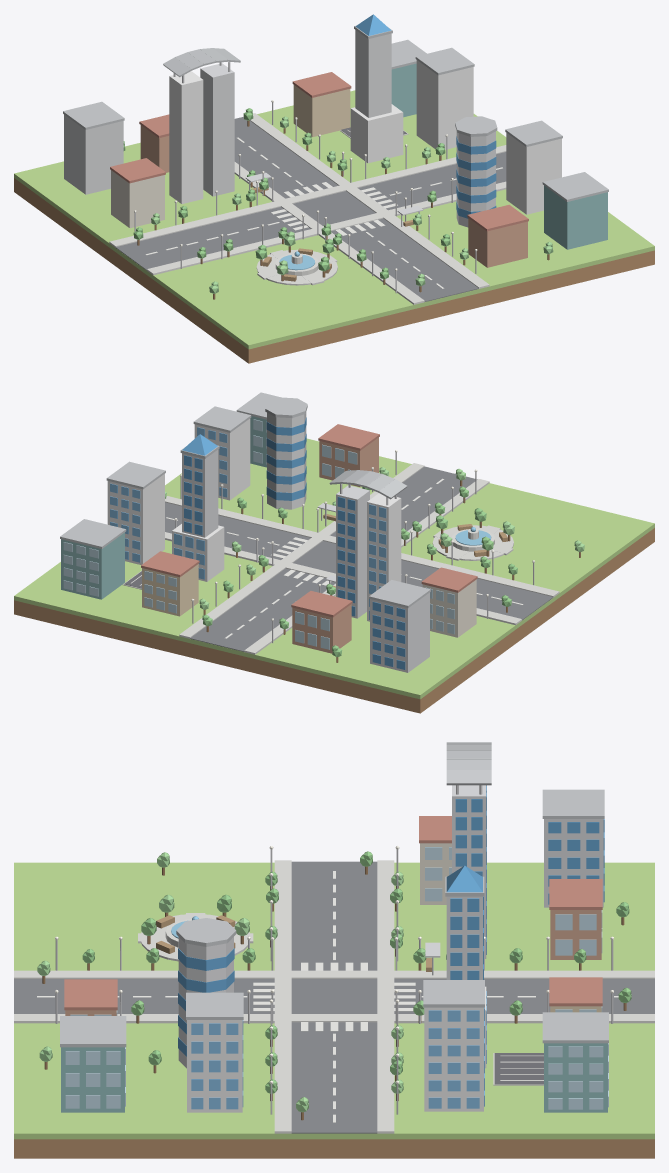
Rendered from Buliding.fbx.
3 renders of one model, top to bottom at view 1: azimuth 30°, elevation 25°; view 2: azimuth 150°, elevation 25°; view 3: azimuth 270°, elevation 25°, orthographic. The views are drawn at different scales.
Visible parts, largest first — view 1: Base_Grass, Base_Dirt, Road_S, Road_W, TwinA_Body, TwinB_Body, NE_A_Body, Road_N, NW_C_Body, SE_A_Body, SE_C_Body, CoreShaft_Body (+24 smaller); view 2: Base_Grass, Base_Dirt, Road_N, NE_A_Body, NW_C_Body, TwinB_Body, NE_C_Body, Road_S, Road_E, Road_W, TwinA_Body, RoundTower_Body (+25 smaller); view 3: Base_Grass, Base_Dirt, Road_E, Road_W, Sidewalk_V_L, Road_S, Sidewalk_H_T, Sidewalk_H_B, Road_N, NE_A_Body, SE_A_Body, Sidewalk_V_R (+25 smaller).
Part boxes in pixels (x1,y1,x2,y2): Base_Grass: (14, 90, 654, 349); Base_Dirt: (14, 178, 654, 363); Road_S: (331, 218, 478, 301); Road_W: (115, 207, 310, 270); TwinA_Body: (169, 71, 203, 203); TwinB_Body: (200, 63, 234, 196); NE_A_Body: (416, 60, 473, 149); Road_N: (234, 116, 338, 198); NW_C_Body: (64, 114, 123, 194); SE_A_Body: (506, 133, 561, 214); SE_C_Body: (544, 185, 607, 249); CoreShaft_Body: (355, 30, 391, 117); Base_Grass: (14, 438, 654, 699); Base_Dirt: (14, 528, 654, 713); Road_N: (190, 568, 335, 651); NE_A_Body: (107, 474, 164, 564); NW_C_Body: (370, 592, 429, 672); TwinB_Body: (336, 485, 369, 618); NE_C_Body: (61, 532, 124, 599); Road_S: (330, 466, 477, 536); Road_E: (165, 502, 310, 559); Road_W: (401, 560, 553, 620); TwinA_Body: (367, 493, 401, 621); RoundTower_Body: (267, 412, 306, 509); Base_Grass: (14, 862, 654, 1139); Base_Dirt: (14, 1139, 654, 1158); Road_E: (291, 1022, 377, 1133); Road_W: (291, 861, 377, 970); Sidewalk_V_L: (14, 970, 654, 978); Road_S: (14, 979, 274, 1013); Sidewalk_H_T: (377, 860, 394, 1133); Sidewalk_H_B: (274, 860, 291, 1133); Road_N: (394, 979, 654, 1013); NE_A_Body: (424, 1007, 483, 1111); SE_A_Body: (187, 1020, 242, 1112); Sidewalk_V_R: (14, 1014, 654, 1023).
Bounding box in the file's own units: 3000 × 1114 × 3000.
